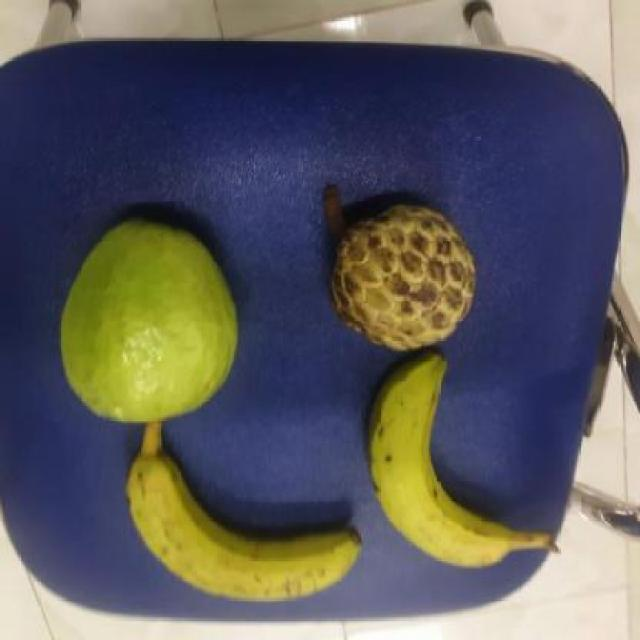banana: (121, 440, 368, 614), (358, 349, 527, 576)
guava: (54, 212, 241, 426)
sugar apple: (328, 204, 486, 353)
